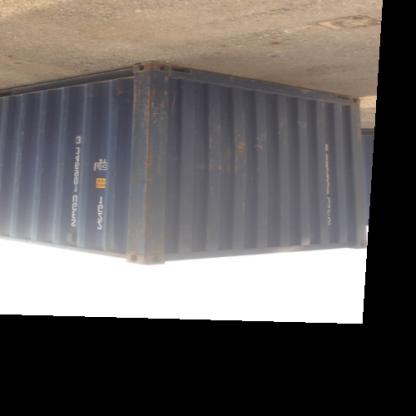Damage: (203, 120, 278, 181), (134, 74, 166, 188)
